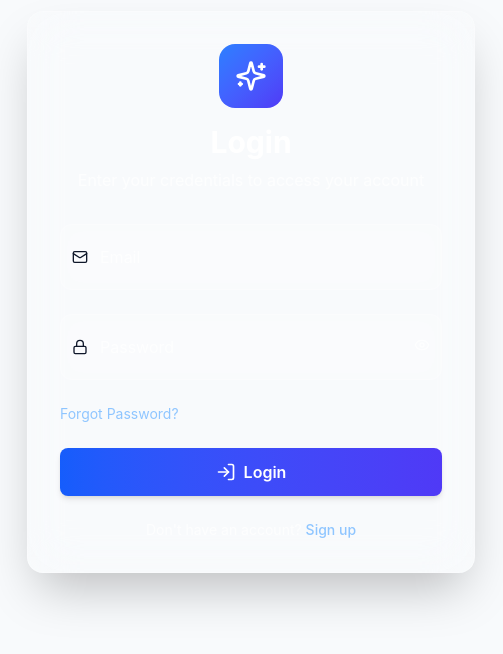
LoginPage › shows validation errors for empty fields
What coordinates should you click on to do the following:
click the button "Login"
I would click on:
 (251, 472)
Its box is [60,448,442,496].
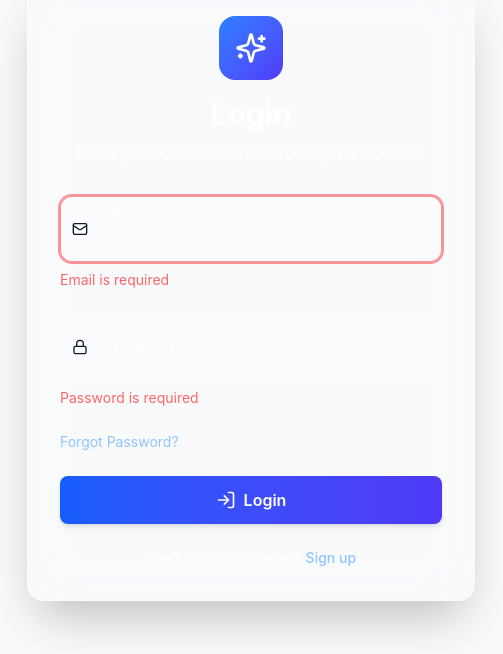
Check: the text "Email is required" is shown, box [60,271,169,288]
Check: the text "Password is required" is shown, box [60,389,199,406]
